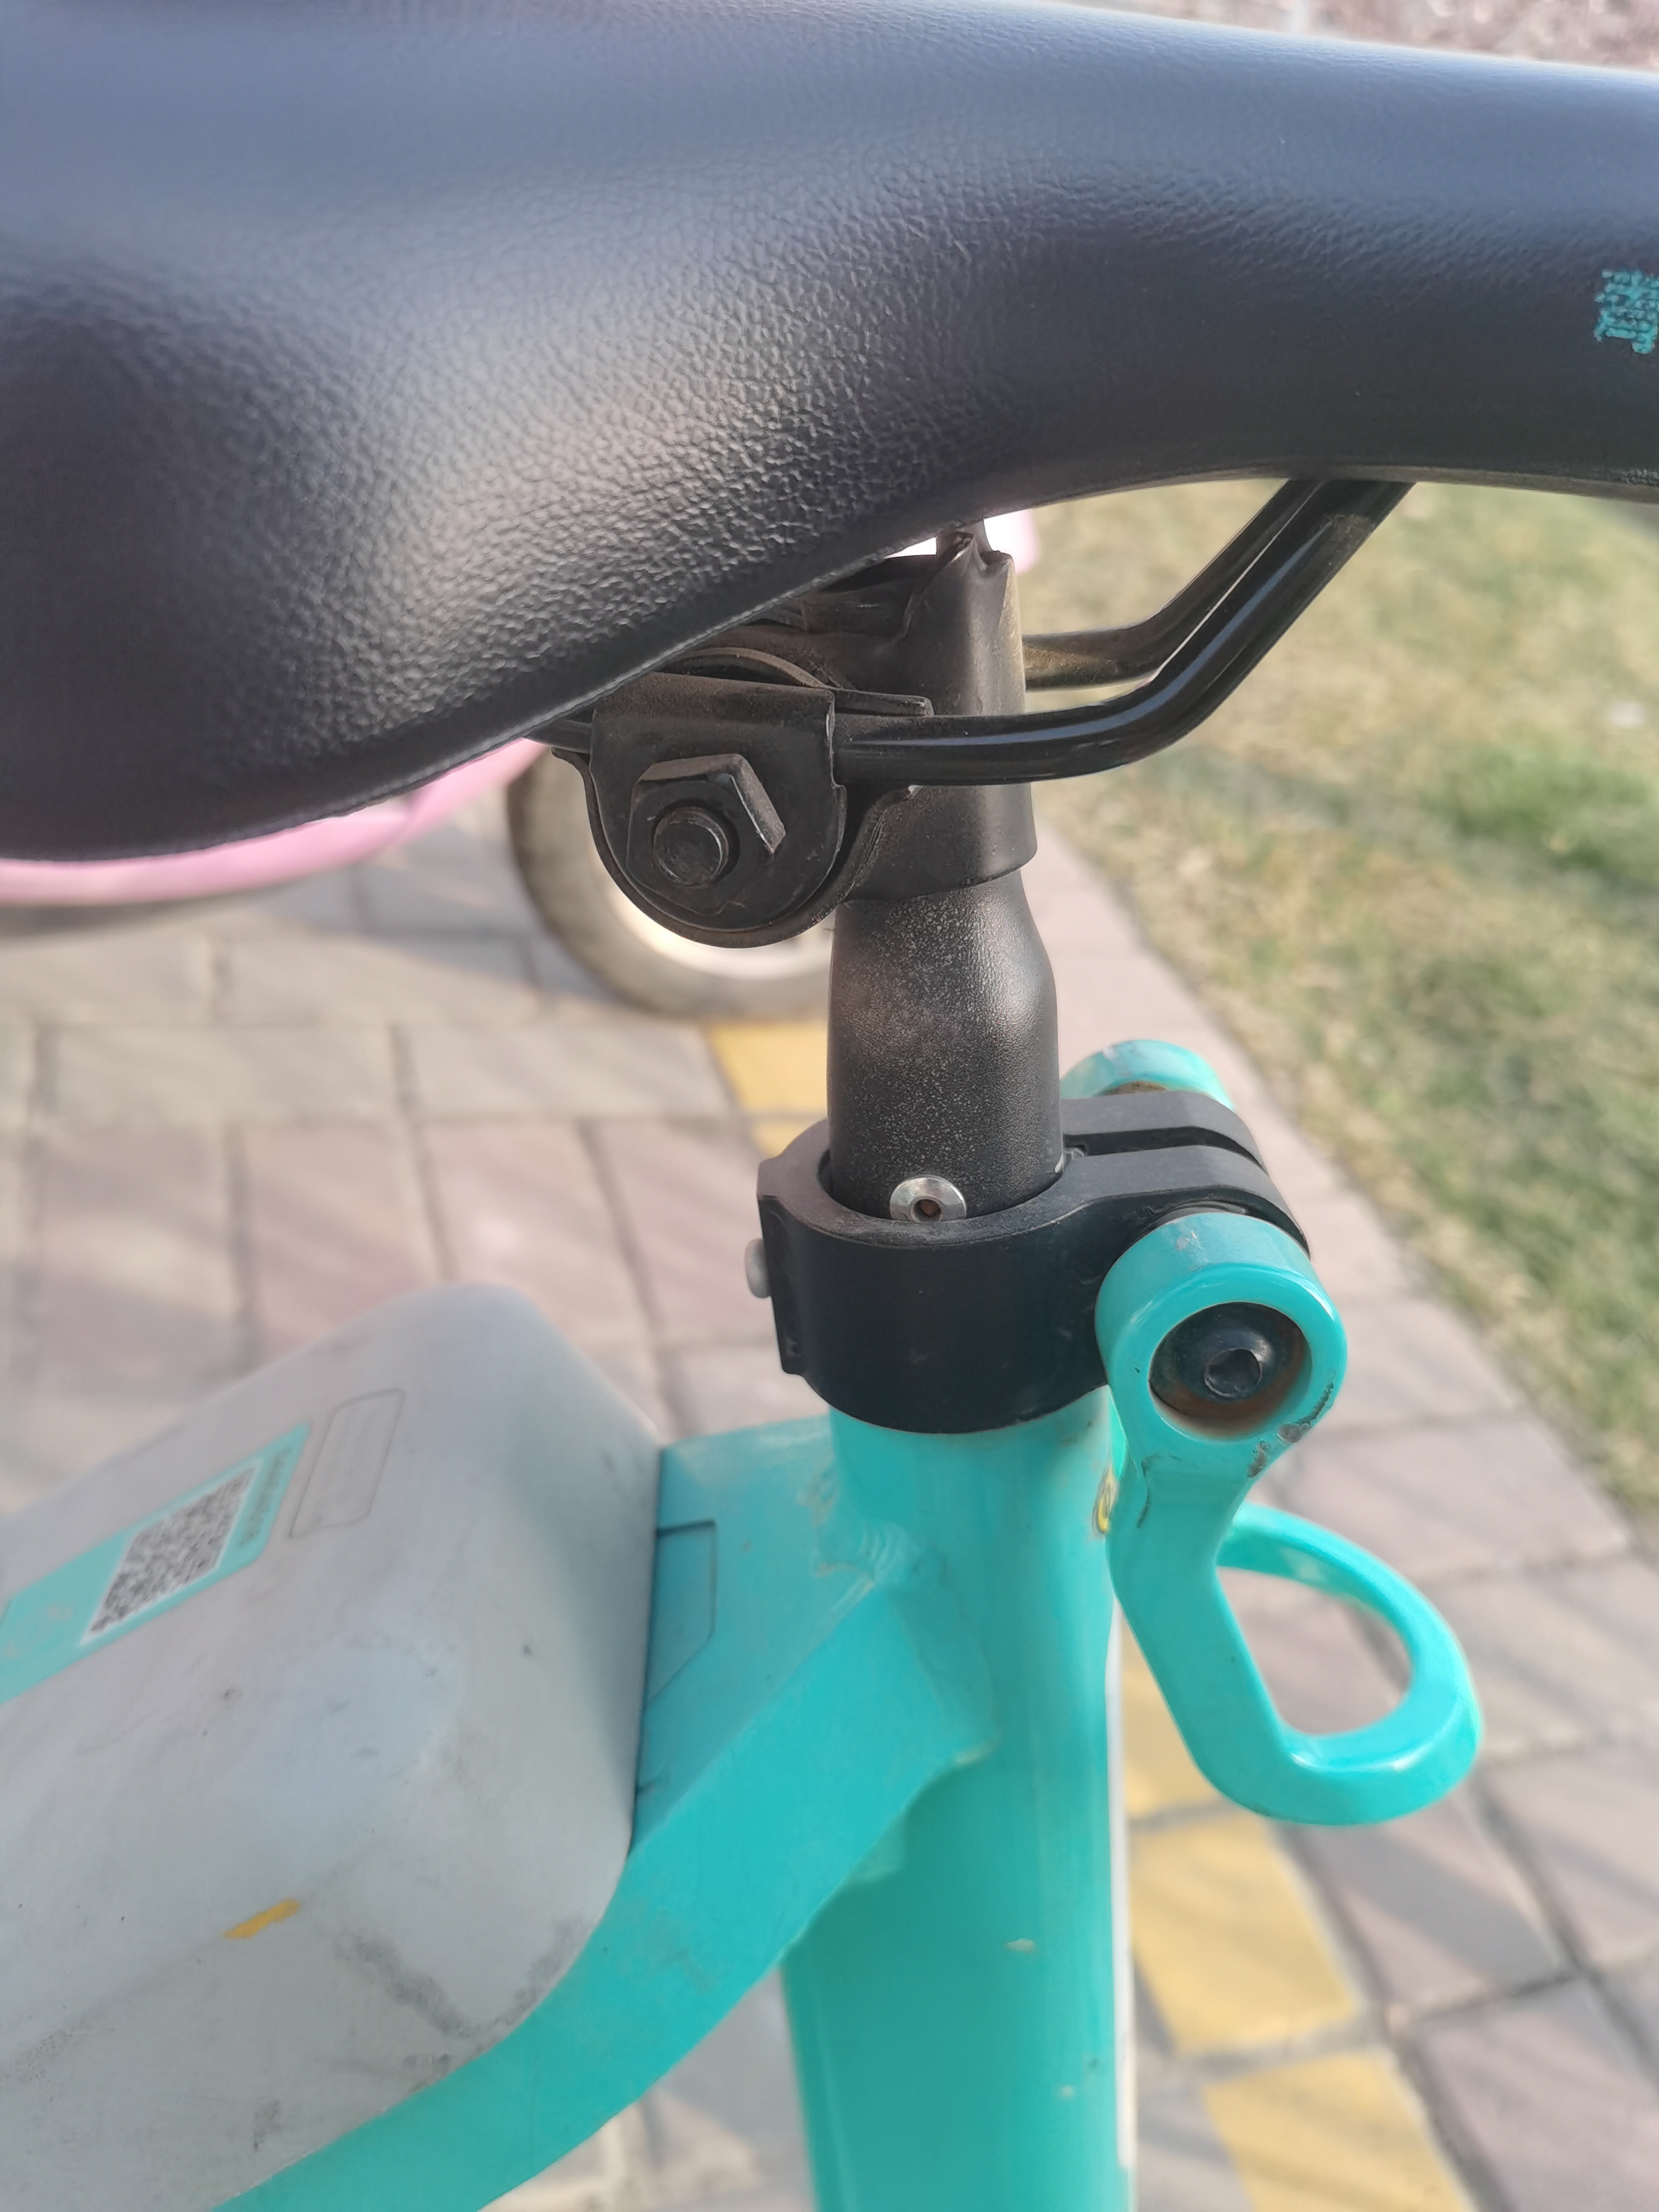bolt_b: (619, 747, 788, 921)
